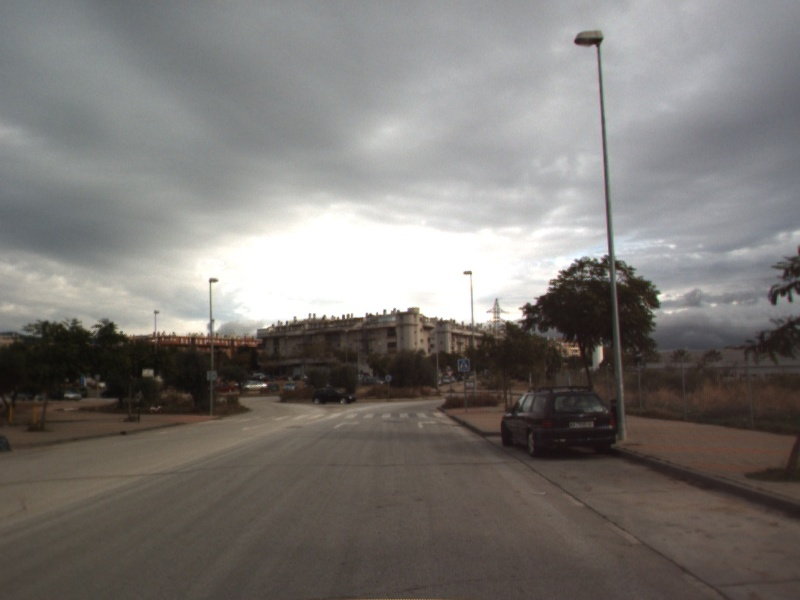RIGHT: (332, 418, 362, 430), (416, 418, 439, 430)
